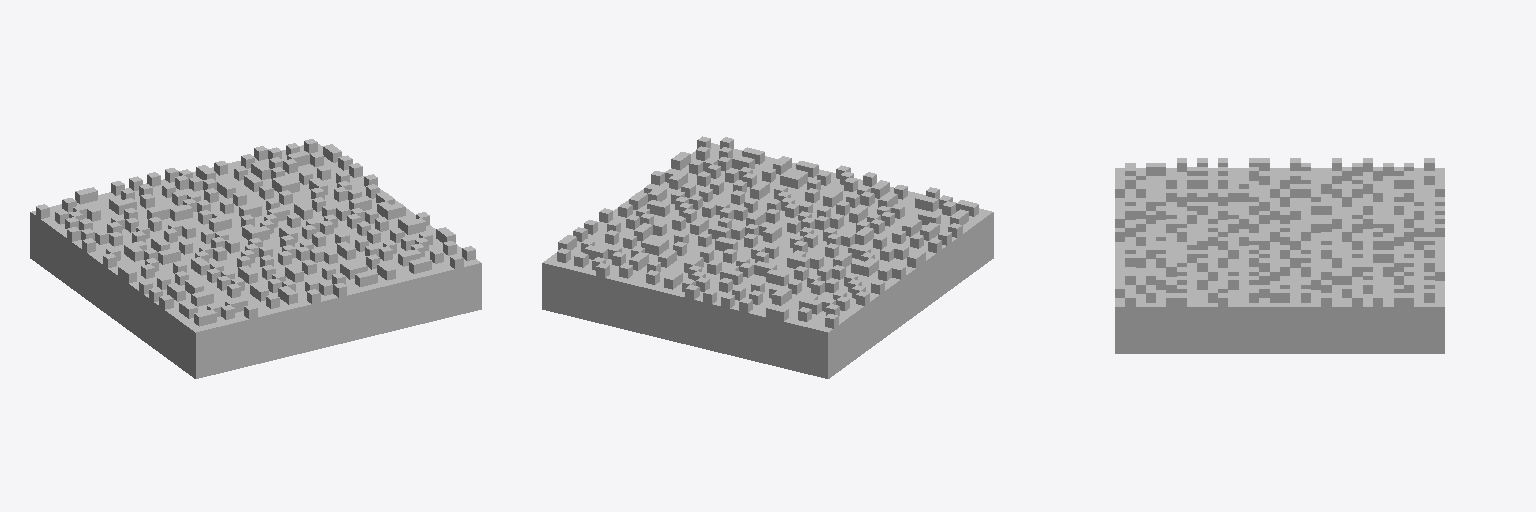
The model's file is Plaines Map-39.obj.
The picture shows the model from 3 angles: view 1: azimuth 30°, elevation 25°; view 2: azimuth 150°, elevation 25°; view 3: azimuth 270°, elevation 25°; orthographic projection.
Visible parts, largest first — view 1: object 1; view 2: object 1; view 3: object 1.
Boxes of the visible parts, x1=… form: object 1: x1=30, y1=139, x2=481, y2=378; object 1: x1=542, y1=136, x2=993, y2=378; object 1: x1=1115, y1=158, x2=1444, y2=353.
Bounding box in the file's own units: 3.2 × 0.6 × 3.2.